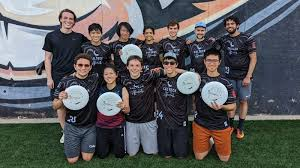disc: (63, 84, 89, 110), (202, 81, 228, 107), (97, 92, 123, 117), (177, 72, 200, 95), (120, 44, 142, 65)
